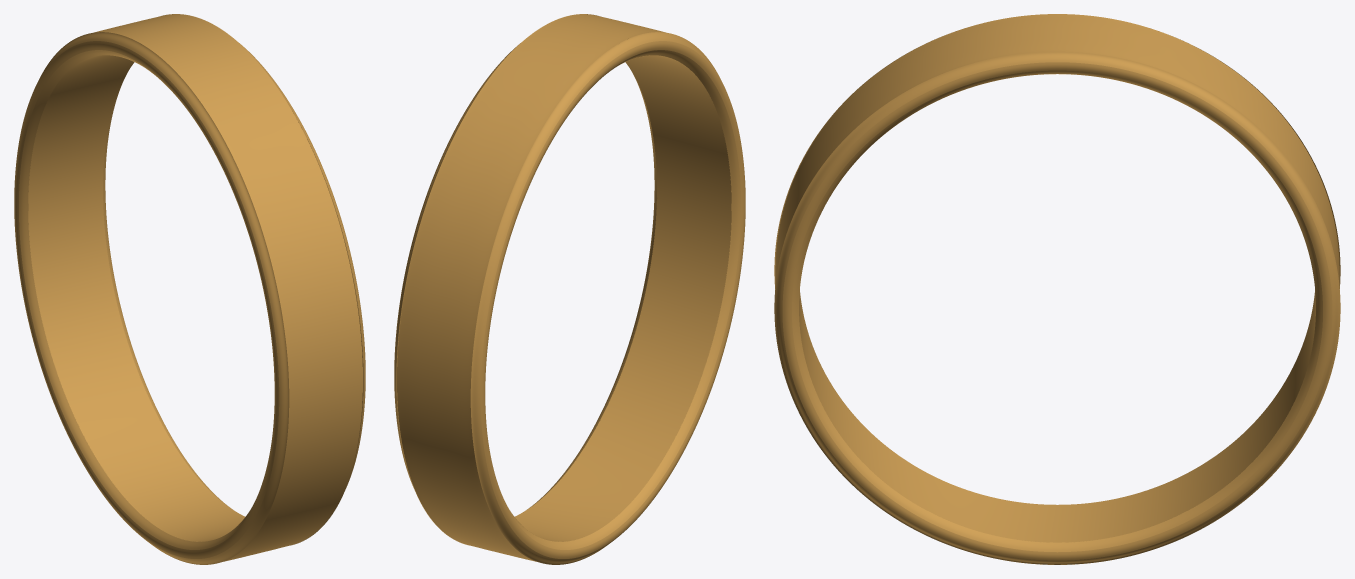
3 views of the same model, side by side, from view 1: azimuth 30°, elevation 25°; view 2: azimuth 150°, elevation 25°; view 3: azimuth 270°, elevation 25° (orthographic). The views are drawn at different scales.
Parts seen in each view (by area): view 1: P11-Outer, P11-Inner, P11-Sides; view 2: P11-Outer, P11-Inner, P11-Sides; view 3: P11-Sides, P11-Outer, P11-Inner.
Part boxes in pixels (x1,y1,x2,y2): P11-Outer: (94,14,362,561); P11-Inner: (28,55,247,541); P11-Sides: (14,14,365,564); P11-Outer: (397,14,665,561); P11-Inner: (512,55,731,541); P11-Sides: (394,14,745,564); P11-Sides: (774,39,1340,564); P11-Outer: (775,14,1339,564); P11-Inner: (799,51,1315,542).
Bounding box in the file's own units: 0.00429 × 0.023 × 0.0229.
